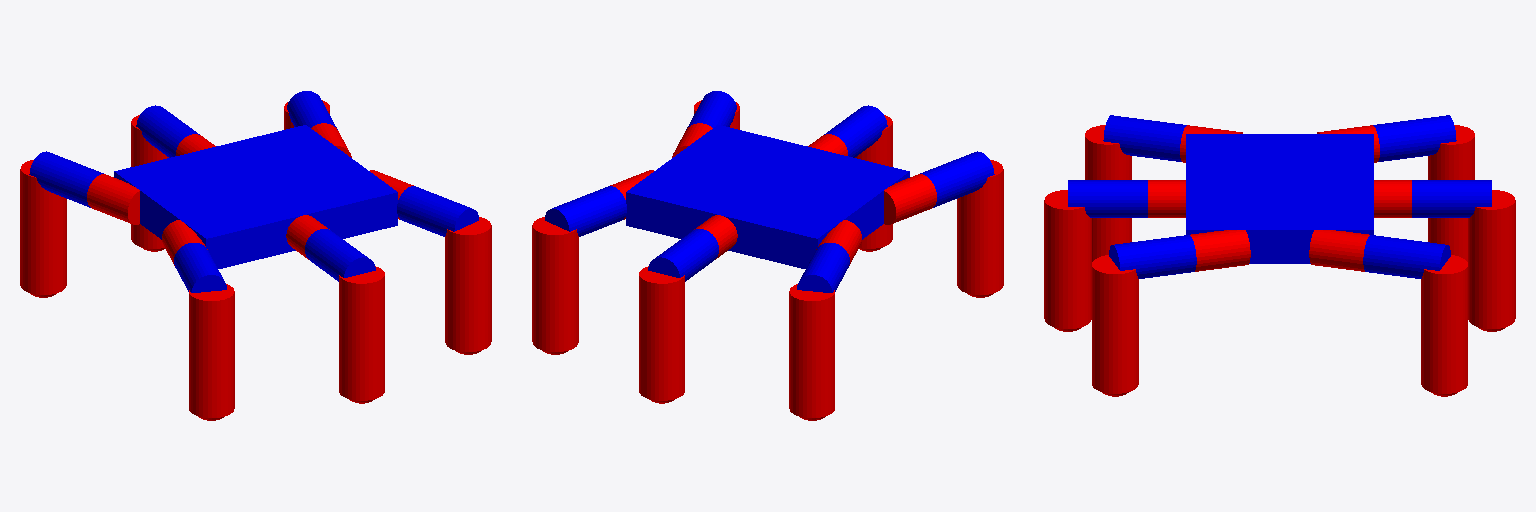
robot.urdf — pexod:
<?xml version="1.0" ?>
<!-- =================================================================================== -->
<!-- |    This document was autogenerated by xacro from urdf/pexod.xacro               | -->
<!-- |    EDITING THIS FILE BY HAND IS NOT RECOMMENDED                                 | -->
<!-- =================================================================================== -->
<robot name="pexod" xmlns:xacro="http://www.ros.org/wiki/xacro">
  <!-- <xacro:include filename="$(find pexod_description)/urdf/pexod_control.xacro" /> -->
  <!-- MATERIALS -->
  <material name="Blue">
    <color rgba="0 0 1 1"/>
  </material>
  <material name="Red">
    <color rgba="1 0 0 1"/>
  </material>
  <material name="Green">
    <color rgba="0 1 0 1"/>
  </material>
  <material name="Yellow">
    <color rgba="1 1 0 1"/>
  </material>
  <material name="LightGrey">
    <color rgba="0.6 0.6 0.6 1.0"/>
  </material>
  <!-- END OF MATERIALS -->
  <!-- XACRO MACROS FOR VISUALS AND COLLISIONS -->
  <!-- END OF XACRO MACROS -->
  <!-- TORSO -->
  <link name="base_link">
    <visual>
      <origin rpy="0 0 0" xyz="0 0 0"/>
      <geometry>
        <box size="0.24 0.2 0.04"/>
      </geometry>
      <material name="Blue"/>
    </visual>
    <collision>
      <origin rpy="0 0 0" xyz="0 0 0"/>
      <geometry>
        <box size="0.24 0.2 0.04"/>
      </geometry>
    </collision>
    <inertial>
      <!-- CENTER OF MASS -->
      <origin rpy="0 0 0" xyz="0 0 0"/>
      <mass value="1.031"/>
      <!-- box inertia: 1/12*m(y^2+z^2), ... -->
      <inertia ixx="0.00357413333333" ixy="0" ixz="0" iyy="0.00508626666667" iyz="0" izz="0.00838546666667"/>
    </inertial>
  </link>
  <!-- XACRO MACRO FOR LEGS LINKS/JOINTS -->
  <!-- END OF LEG LINKS/JOINTS -->
  <joint name="body_leg_2" type="revolute">
    <parent link="base_link"/>
    <child link="leg_2_1"/>
    <limit effort="30.0" lower="-1.57079632679" upper="1.57079632679" velocity="7.0"/>
    <origin rpy="0 0 -0.3" xyz="0.11 0.04 0"/>
    <!-- <xacro:if value="${index == 5 or index == 4 or index == 3}">
                <axis xyz="0 0 1"/>
            </xacro:if>
            <xacro:if value="${index == 2 or index == 1 or index == 0}"> -->
    <axis xyz="0 0 1"/>
    <!-- </xacro:if> -->
    <dynamics damping="0.0"/>
  </joint>
  <link name="leg_2_1">
    <visual>
      <origin rpy="1.57079632679 0 0" xyz="0.01 0.03 0"/>
      <geometry>
        <cylinder length="0.06" radius="0.02"/>
      </geometry>
      <material name="Red"/>
    </visual>
    <collision>
      <origin rpy="1.57079632679 0 0" xyz="0.01 0.03 0"/>
      <geometry>
        <box size="0.02 0.02 0.06"/>
      </geometry>
    </collision>
    <inertial>
      <!-- CENTER OF MASS -->
      <origin rpy="1.57079632679 0 0" xyz="0.01 0.03 0"/>
      <mass value="0.02"/>
      <!-- box inertia: 1/12*m(y^2+z^2), ... -->
      <inertia ixx="6.66666666667e-06" ixy="0" ixz="0" iyy="6.66666666667e-06" iyz="0" izz="1.33333333333e-06"/>
    </inertial>
  </link>
  <joint name="leg_2_1_2" type="revolute">
    <parent link="leg_2_1"/>
    <child link="leg_2_2"/>
    <limit effort="30.0" lower="-0.78539816339" upper="0.78539816339" velocity="7.0"/>
    <origin rpy="0 0 0" xyz="0 0.06 0"/>
    <axis xyz="1 0 0"/>
    <dynamics damping="0.0"/>
  </joint>
  <link name="leg_2_2">
    <visual>
      <origin rpy="1.57079632679 0 0" xyz="0.01 0.0425 0"/>
      <geometry>
        <cylinder length="0.085" radius="0.02"/>
      </geometry>
      <material name="Blue"/>
    </visual>
    <collision>
      <origin rpy="1.57079632679 0 0" xyz="0.01 0.0425 0"/>
      <geometry>
        <box size="0.02 0.02 0.085"/>
      </geometry>
    </collision>
    <inertial>
      <!-- CENTER OF MASS -->
      <origin rpy="1.57079632679 0 0" xyz="0.01 0.0425 0"/>
      <mass value="0.184"/>
      <!-- box inertia: 1/12*m(y^2+z^2), ... -->
      <inertia ixx="0.000116916666667" ixy="0" ixz="0" iyy="0.000116916666667" iyz="0" izz="1.22666666667e-05"/>
    </inertial>
  </link>
  <joint name="leg_2_2_3" type="fixed">
    <parent link="leg_2_2"/>
    <child link="leg_2_3"/>
    <!-- <limit effort="30.0" lower="-0.78539816339" upper="0.78539816339" velocity="7.0"/> -->
    <origin rpy="-1.57079632679 0 0" xyz="0 0.085 0"/>
    <!-- <axis xyz="-1 0 0"/>
    <dynamics damping="0.0"/> -->
  </joint>
  <link name="leg_2_3">
    <visual>
      <origin rpy="1.57079632679 0 0" xyz="0.0125 0.07 0"/>
      <geometry>
        <cylinder length="0.14" radius="0.025"/>
      </geometry>
      <material name="Red"/>
    </visual>
    <visual>
      <origin rpy="1.57079632679 0 0" xyz="0.0125 0.1275 0"/>
      <geometry>
        <sphere radius="0.025"/>
      </geometry>
      <material name="Red"/>
    </visual>
    <collision>
      <origin rpy="1.57079632679 0 0" xyz="0.0125 0.07 0"/>
      <geometry>
        <box size="0.025 0.025 0.14"/>
      </geometry>
    </collision>
    <collision>
      <origin rpy="1.57079632679 0 0" xyz="0.0125 0.1275 0"/>
      <geometry>
        <sphere radius="0.025"/>
      </geometry>
      <material name="Red"/>
    </collision>
    <inertial>
      <!-- CENTER OF MASS -->
      <origin rpy="1.57079632679 0 0" xyz="0.0125 0.07 0"/>
      <mass value="0.04"/>
      <!-- box inertia: 1/12*m(y^2+z^2), ... -->
      <inertia ixx="6.74166666667e-05" ixy="0" ixz="0" iyy="6.74166666667e-05" iyz="0" izz="4.16666666667e-06"/>
    </inertial>
  </link>
  <joint name="body_leg_3" type="revolute">
    <parent link="base_link"/>
    <child link="leg_3_1"/>
    <limit effort="30.0" lower="-1.57079632679" upper="1.57079632679" velocity="7.0"/>
    <origin rpy="0 0 0.3" xyz="0.11 -0.04 0"/>
    <!-- <xacro:if value="${index == 5 or index == 4 or index == 3}">
                <axis xyz="0 0 1"/>
            </xacro:if>
            <xacro:if value="${index == 2 or index == 1 or index == 0}"> -->
    <axis xyz="0 0 1"/>
    <!-- </xacro:if> -->
    <dynamics damping="0.0"/>
  </joint>
  <link name="leg_3_1">
    <visual>
      <origin rpy="1.57079632679 0 0" xyz="0.01 -0.03 0"/>
      <geometry>
        <cylinder length="0.06" radius="0.02"/>
      </geometry>
      <material name="Red"/>
    </visual>
    <collision>
      <origin rpy="1.57079632679 0 0" xyz="0.01 -0.03 0"/>
      <geometry>
        <box size="0.02 0.02 0.06"/>
      </geometry>
    </collision>
    <inertial>
      <!-- CENTER OF MASS -->
      <origin rpy="1.57079632679 0 0" xyz="0.01 -0.03 0"/>
      <mass value="0.02"/>
      <!-- box inertia: 1/12*m(y^2+z^2), ... -->
      <inertia ixx="6.66666666667e-06" ixy="0" ixz="0" iyy="6.66666666667e-06" iyz="0" izz="1.33333333333e-06"/>
    </inertial>
  </link>
  <joint name="leg_3_1_2" type="revolute">
    <parent link="leg_3_1"/>
    <child link="leg_3_2"/>
    <limit effort="30.0" lower="-0.78539816339" upper="0.78539816339" velocity="7.0"/>
    <origin rpy="0 0 0" xyz="0 -0.06 0"/>
    <axis xyz="-1 0 0"/>
    <dynamics damping="0.0"/>
  </joint>
  <link name="leg_3_2">
    <visual>
      <origin rpy="1.57079632679 0 0" xyz="0.01 -0.0425 0"/>
      <geometry>
        <cylinder length="0.085" radius="0.02"/>
      </geometry>
      <material name="Blue"/>
    </visual>
    <collision>
      <origin rpy="1.57079632679 0 0" xyz="0.01 -0.0425 0"/>
      <geometry>
        <box size="0.02 0.02 0.085"/>
      </geometry>
    </collision>
    <inertial>
      <!-- CENTER OF MASS -->
      <origin rpy="1.57079632679 0 0" xyz="0.01 -0.0425 0"/>
      <mass value="0.184"/>
      <!-- box inertia: 1/12*m(y^2+z^2), ... -->
      <inertia ixx="0.000116916666667" ixy="0" ixz="0" iyy="0.000116916666667" iyz="0" izz="1.22666666667e-05"/>
    </inertial>
  </link>
  <joint name="leg_3_2_3" type="fixed">
    <parent link="leg_3_2"/>
    <child link="leg_3_3"/>
    <!-- <limit effort="30.0" lower="-0.78539816339" upper="0.78539816339" velocity="7.0"/> -->
    <origin rpy="1.57079632679 0 0" xyz="0 -0.085 0"/>
    <!-- <axis xyz="1 0 0"/>
    <dynamics damping="0.0"/> -->
  </joint>
  <link name="leg_3_3">
    <visual>
      <origin rpy="1.57079632679 0 0" xyz="0.0125 -0.07 0"/>
      <geometry>
        <cylinder length="0.14" radius="0.025"/>
      </geometry>
      <material name="Red"/>
    </visual>
    <visual>
      <origin rpy="1.57079632679 0 0" xyz="0.0125 -0.1275 0"/>
      <geometry>
        <sphere radius="0.025"/>
      </geometry>
      <material name="Red"/>
    </visual>
    <collision>
      <origin rpy="1.57079632679 0 0" xyz="0.0125 -0.07 0"/>
      <geometry>
        <box size="0.025 0.025 0.14"/>
      </geometry>
    </collision>
    <collision>
      <origin rpy="1.57079632679 0 0" xyz="0.0125 -0.1275 0"/>
      <geometry>
        <sphere radius="0.025"/>
      </geometry>
      <material name="Red"/>
    </collision>
    <inertial>
      <!-- CENTER OF MASS -->
      <origin rpy="1.57079632679 0 0" xyz="0.0125 -0.07 0"/>
      <mass value="0.04"/>
      <!-- box inertia: 1/12*m(y^2+z^2), ... -->
      <inertia ixx="6.74166666667e-05" ixy="0" ixz="0" iyy="6.74166666667e-05" iyz="0" izz="4.16666666667e-06"/>
    </inertial>
  </link>
  <joint name="body_leg_0" type="revolute">
    <parent link="base_link"/>
    <child link="leg_0_1"/>
    <limit effort="30.0" lower="-1.57079632679" upper="1.57079632679" velocity="7.0"/>
    <origin rpy="0 0 0.3" xyz="-0.13 0.04 0"/>
    <!-- <xacro:if value="${index == 5 or index == 4 or index == 3}">
                <axis xyz="0 0 1"/>
            </xacro:if>
            <xacro:if value="${index == 2 or index == 1 or index == 0}"> -->
    <axis xyz="0 0 1"/>
    <!-- </xacro:if> -->
    <dynamics damping="0.0"/>
  </joint>
  <link name="leg_0_1">
    <visual>
      <origin rpy="1.57079632679 0 0" xyz="0.01 0.03 0"/>
      <geometry>
        <cylinder length="0.06" radius="0.02"/>
      </geometry>
      <material name="Red"/>
    </visual>
    <collision>
      <origin rpy="1.57079632679 0 0" xyz="0.01 0.03 0"/>
      <geometry>
        <box size="0.02 0.02 0.06"/>
      </geometry>
    </collision>
    <inertial>
      <!-- CENTER OF MASS -->
      <origin rpy="1.57079632679 0 0" xyz="0.01 0.03 0"/>
      <mass value="0.02"/>
      <!-- box inertia: 1/12*m(y^2+z^2), ... -->
      <inertia ixx="6.66666666667e-06" ixy="0" ixz="0" iyy="6.66666666667e-06" iyz="0" izz="1.33333333333e-06"/>
    </inertial>
  </link>
  <joint name="leg_0_1_2" type="revolute">
    <parent link="leg_0_1"/>
    <child link="leg_0_2"/>
    <limit effort="30.0" lower="-0.78539816339" upper="0.78539816339" velocity="7.0"/>
    <origin rpy="0 0 0" xyz="0 0.06 0"/>
    <axis xyz="1 0 0"/>
    <dynamics damping="0.0"/>
  </joint>
  <link name="leg_0_2">
    <visual>
      <origin rpy="1.57079632679 0 0" xyz="0.01 0.0425 0"/>
      <geometry>
        <cylinder length="0.085" radius="0.02"/>
      </geometry>
      <material name="Blue"/>
    </visual>
    <collision>
      <origin rpy="1.57079632679 0 0" xyz="0.01 0.0425 0"/>
      <geometry>
        <box size="0.02 0.02 0.085"/>
      </geometry>
    </collision>
    <inertial>
      <!-- CENTER OF MASS -->
      <origin rpy="1.57079632679 0 0" xyz="0.01 0.0425 0"/>
      <mass value="0.184"/>
      <!-- box inertia: 1/12*m(y^2+z^2), ... -->
      <inertia ixx="0.000116916666667" ixy="0" ixz="0" iyy="0.000116916666667" iyz="0" izz="1.22666666667e-05"/>
    </inertial>
  </link>
  <joint name="leg_0_2_3" type="fixed">
    <parent link="leg_0_2"/>
    <child link="leg_0_3"/>
    <!-- <limit effort="30.0" lower="-0.78539816339" upper="0.78539816339" velocity="7.0"/> -->
    <origin rpy="-1.57079632679 0 0" xyz="0 0.085 0"/>
    <!-- <axis xyz="-1 0 0"/>
    <dynamics damping="0.0"/> -->
  </joint>
  <link name="leg_0_3">
    <visual>
      <origin rpy="1.57079632679 0 0" xyz="0.0125 0.07 0"/>
      <geometry>
        <cylinder length="0.14" radius="0.025"/>
      </geometry>
      <material name="Red"/>
    </visual>
    <visual>
      <origin rpy="1.57079632679 0 0" xyz="0.0125 0.1275 0"/>
      <geometry>
        <sphere radius="0.025"/>
      </geometry>
      <material name="Red"/>
    </visual>
    <collision>
      <origin rpy="1.57079632679 0 0" xyz="0.0125 0.07 0"/>
      <geometry>
        <box size="0.025 0.025 0.14"/>
      </geometry>
    </collision>
    <collision>
      <origin rpy="1.57079632679 0 0" xyz="0.0125 0.1275 0"/>
      <geometry>
        <sphere radius="0.025"/>
      </geometry>
      <material name="Red"/>
    </collision>
    <inertial>
      <!-- CENTER OF MASS -->
      <origin rpy="1.57079632679 0 0" xyz="0.0125 0.07 0"/>
      <mass value="0.04"/>
      <!-- box inertia: 1/12*m(y^2+z^2), ... -->
      <inertia ixx="6.74166666667e-05" ixy="0" ixz="0" iyy="6.74166666667e-05" iyz="0" izz="4.16666666667e-06"/>
    </inertial>
  </link>
  <joint name="body_leg_5" type="revolute">
    <parent link="base_link"/>
    <child link="leg_5_1"/>
    <limit effort="30.0" lower="-1.57079632679" upper="1.57079632679" velocity="7.0"/>
    <origin rpy="0 0 -0.3" xyz="-0.13 -0.04 0"/>
    <!-- <xacro:if value="${index == 5 or index == 4 or index == 3}">
                <axis xyz="0 0 1"/>
            </xacro:if>
            <xacro:if value="${index == 2 or index == 1 or index == 0}"> -->
    <axis xyz="0 0 1"/>
    <!-- </xacro:if> -->
    <dynamics damping="0.0"/>
  </joint>
  <link name="leg_5_1">
    <visual>
      <origin rpy="1.57079632679 0 0" xyz="0.01 -0.03 0"/>
      <geometry>
        <cylinder length="0.06" radius="0.02"/>
      </geometry>
      <material name="Red"/>
    </visual>
    <collision>
      <origin rpy="1.57079632679 0 0" xyz="0.01 -0.03 0"/>
      <geometry>
        <box size="0.02 0.02 0.06"/>
      </geometry>
    </collision>
    <inertial>
      <!-- CENTER OF MASS -->
      <origin rpy="1.57079632679 0 0" xyz="0.01 -0.03 0"/>
      <mass value="0.02"/>
      <!-- box inertia: 1/12*m(y^2+z^2), ... -->
      <inertia ixx="6.66666666667e-06" ixy="0" ixz="0" iyy="6.66666666667e-06" iyz="0" izz="1.33333333333e-06"/>
    </inertial>
  </link>
  <joint name="leg_5_1_2" type="revolute">
    <parent link="leg_5_1"/>
    <child link="leg_5_2"/>
    <limit effort="30.0" lower="-0.78539816339" upper="0.78539816339" velocity="7.0"/>
    <origin rpy="0 0 0" xyz="0 -0.06 0"/>
    <axis xyz="-1 0 0"/>
    <dynamics damping="0.0"/>
  </joint>
  <link name="leg_5_2">
    <visual>
      <origin rpy="1.57079632679 0 0" xyz="0.01 -0.0425 0"/>
      <geometry>
        <cylinder length="0.085" radius="0.02"/>
      </geometry>
      <material name="Blue"/>
    </visual>
    <collision>
      <origin rpy="1.57079632679 0 0" xyz="0.01 -0.0425 0"/>
      <geometry>
        <box size="0.02 0.02 0.085"/>
      </geometry>
    </collision>
    <inertial>
      <!-- CENTER OF MASS -->
      <origin rpy="1.57079632679 0 0" xyz="0.01 -0.0425 0"/>
      <mass value="0.184"/>
      <!-- box inertia: 1/12*m(y^2+z^2), ... -->
      <inertia ixx="0.000116916666667" ixy="0" ixz="0" iyy="0.000116916666667" iyz="0" izz="1.22666666667e-05"/>
    </inertial>
  </link>
  <joint name="leg_5_2_3" type="fixed">
    <parent link="leg_5_2"/>
    <child link="leg_5_3"/>
    <!-- <limit effort="30.0" lower="-0.78539816339" upper="0.78539816339" velocity="7.0"/> -->
    <origin rpy="1.57079632679 0 0" xyz="0 -0.085 0"/>
    <!-- <axis xyz="1 0 0"/>
    <dynamics damping="0.0"/> -->
  </joint>
  <link name="leg_5_3">
    <visual>
      <origin rpy="1.57079632679 0 0" xyz="0.0125 -0.07 0"/>
      <geometry>
        <cylinder length="0.14" radius="0.025"/>
      </geometry>
      <material name="Red"/>
    </visual>
    <visual>
      <origin rpy="1.57079632679 0 0" xyz="0.0125 -0.1275 0"/>
      <geometry>
        <sphere radius="0.025"/>
      </geometry>
      <material name="Red"/>
    </visual>
    <collision>
      <origin rpy="1.57079632679 0 0" xyz="0.0125 -0.07 0"/>
      <geometry>
        <box size="0.025 0.025 0.14"/>
      </geometry>
    </collision>
    <collision>
      <origin rpy="1.57079632679 0 0" xyz="0.0125 -0.1275 0"/>
      <geometry>
        <sphere radius="0.025"/>
      </geometry>
      <material name="Red"/>
    </collision>
    <inertial>
      <!-- CENTER OF MASS -->
      <origin rpy="1.57079632679 0 0" xyz="0.0125 -0.07 0"/>
      <mass value="0.04"/>
      <!-- box inertia: 1/12*m(y^2+z^2), ... -->
      <inertia ixx="6.74166666667e-05" ixy="0" ixz="0" iyy="6.74166666667e-05" iyz="0" izz="4.16666666667e-06"/>
    </inertial>
  </link>
  <joint name="body_leg_1" type="revolute">
    <parent link="base_link"/>
    <child link="leg_1_1"/>
    <limit effort="30.0" lower="-1.57079632679" upper="1.57079632679" velocity="7.0"/>
    <origin rpy="0 0 0" xyz="-0.01 0.08 0"/>
    <!-- <xacro:if value="${index == 5 or index == 4 or index == 3}">
                <axis xyz="0 0 1"/>
            </xacro:if>
            <xacro:if value="${index == 2 or index == 1 or index == 0}"> -->
    <axis xyz="0 0 1"/>
    <!-- </xacro:if> -->
    <dynamics damping="0.0"/>
  </joint>
  <link name="leg_1_1">
    <visual>
      <origin rpy="1.57079632679 0 0" xyz="0.01 0.03 0"/>
      <geometry>
        <cylinder length="0.06" radius="0.02"/>
      </geometry>
      <material name="Red"/>
    </visual>
    <collision>
      <origin rpy="1.57079632679 0 0" xyz="0.01 0.03 0"/>
      <geometry>
        <box size="0.02 0.02 0.06"/>
      </geometry>
    </collision>
    <inertial>
      <!-- CENTER OF MASS -->
      <origin rpy="1.57079632679 0 0" xyz="0.01 0.03 0"/>
      <mass value="0.02"/>
      <!-- box inertia: 1/12*m(y^2+z^2), ... -->
      <inertia ixx="6.66666666667e-06" ixy="0" ixz="0" iyy="6.66666666667e-06" iyz="0" izz="1.33333333333e-06"/>
    </inertial>
  </link>
  <joint name="leg_1_1_2" type="revolute">
    <parent link="leg_1_1"/>
    <child link="leg_1_2"/>
    <limit effort="30.0" lower="-0.78539816339" upper="0.78539816339" velocity="7.0"/>
    <origin rpy="0 0 0" xyz="0 0.06 0"/>
    <axis xyz="1 0 0"/>
    <dynamics damping="0.0"/>
  </joint>
  <link name="leg_1_2">
    <visual>
      <origin rpy="1.57079632679 0 0" xyz="0.01 0.0425 0"/>
      <geometry>
        <cylinder length="0.085" radius="0.02"/>
      </geometry>
      <material name="Blue"/>
    </visual>
    <collision>
      <origin rpy="1.57079632679 0 0" xyz="0.01 0.0425 0"/>
      <geometry>
        <box size="0.02 0.02 0.085"/>
      </geometry>
    </collision>
    <inertial>
      <!-- CENTER OF MASS -->
      <origin rpy="1.57079632679 0 0" xyz="0.01 0.0425 0"/>
      <mass value="0.184"/>
      <!-- box inertia: 1/12*m(y^2+z^2), ... -->
      <inertia ixx="0.000116916666667" ixy="0" ixz="0" iyy="0.000116916666667" iyz="0" izz="1.22666666667e-05"/>
    </inertial>
  </link>
  <joint name="leg_1_2_3" type="fixed">
    <parent link="leg_1_2"/>
    <child link="leg_1_3"/>
    <!-- <limit effort="30.0" lower="-0.78539816339" upper="0.78539816339" velocity="7.0"/> -->
    <origin rpy="-1.57079632679 0 0" xyz="0 0.085 0"/>
    <!-- <axis xyz="-1 0 0"/>
    <dynamics damping="0.0"/> -->
  </joint>
  <link name="leg_1_3">
    <visual>
      <origin rpy="1.57079632679 0 0" xyz="0.0125 0.07 0"/>
      <geometry>
        <cylinder length="0.14" radius="0.025"/>
      </geometry>
      <material name="Red"/>
    </visual>
    <visual>
      <origin rpy="1.57079632679 0 0" xyz="0.0125 0.1275 0"/>
      <geometry>
        <sphere radius="0.025"/>
      </geometry>
      <material name="Red"/>
    </visual>
    <collision>
      <origin rpy="1.57079632679 0 0" xyz="0.0125 0.07 0"/>
      <geometry>
        <box size="0.025 0.025 0.14"/>
      </geometry>
    </collision>
    <collision>
      <origin rpy="1.57079632679 0 0" xyz="0.0125 0.1275 0"/>
      <geometry>
        <sphere radius="0.025"/>
      </geometry>
      <material name="Red"/>
    </collision>
    <inertial>
      <!-- CENTER OF MASS -->
      <origin rpy="1.57079632679 0 0" xyz="0.0125 0.07 0"/>
      <mass value="0.04"/>
      <!-- box inertia: 1/12*m(y^2+z^2), ... -->
      <inertia ixx="6.74166666667e-05" ixy="0" ixz="0" iyy="6.74166666667e-05" iyz="0" izz="4.16666666667e-06"/>
    </inertial>
  </link>
  <joint name="body_leg_4" type="revolute">
    <parent link="base_link"/>
    <child link="leg_4_1"/>
    <limit effort="30.0" lower="-1.57079632679" upper="1.57079632679" velocity="7.0"/>
    <origin rpy="0 0 0" xyz="-0.01 -0.08 0"/>
    <!-- <xacro:if value="${index == 5 or index == 4 or index == 3}">
                <axis xyz="0 0 1"/>
            </xacro:if>
            <xacro:if value="${index == 2 or index == 1 or index == 0}"> -->
    <axis xyz="0 0 1"/>
    <!-- </xacro:if> -->
    <dynamics damping="0.0"/>
  </joint>
  <link name="leg_4_1">
    <visual>
      <origin rpy="1.57079632679 0 0" xyz="0.01 -0.03 0"/>
      <geometry>
        <cylinder length="0.06" radius="0.02"/>
      </geometry>
      <material name="Red"/>
    </visual>
    <collision>
      <origin rpy="1.57079632679 0 0" xyz="0.01 -0.03 0"/>
      <geometry>
        <box size="0.02 0.02 0.06"/>
      </geometry>
    </collision>
    <inertial>
      <!-- CENTER OF MASS -->
      <origin rpy="1.57079632679 0 0" xyz="0.01 -0.03 0"/>
      <mass value="0.02"/>
      <!-- box inertia: 1/12*m(y^2+z^2), ... -->
      <inertia ixx="6.66666666667e-06" ixy="0" ixz="0" iyy="6.66666666667e-06" iyz="0" izz="1.33333333333e-06"/>
    </inertial>
  </link>
  <joint name="leg_4_1_2" type="revolute">
    <parent link="leg_4_1"/>
    <child link="leg_4_2"/>
    <limit effort="30.0" lower="-0.78539816339" upper="0.78539816339" velocity="7.0"/>
    <origin rpy="0 0 0" xyz="0 -0.06 0"/>
    <axis xyz="-1 0 0"/>
    <dynamics damping="0.0"/>
  </joint>
  <link name="leg_4_2">
    <visual>
      <origin rpy="1.57079632679 0 0" xyz="0.01 -0.0425 0"/>
      <geometry>
        <cylinder length="0.085" radius="0.02"/>
      </geometry>
      <material name="Blue"/>
    </visual>
    <collision>
      <origin rpy="1.57079632679 0 0" xyz="0.01 -0.0425 0"/>
      <geometry>
        <box size="0.02 0.02 0.085"/>
      </geometry>
    </collision>
    <inertial>
      <!-- CENTER OF MASS -->
      <origin rpy="1.57079632679 0 0" xyz="0.01 -0.0425 0"/>
      <mass value="0.184"/>
      <!-- box inertia: 1/12*m(y^2+z^2), ... -->
      <inertia ixx="0.000116916666667" ixy="0" ixz="0" iyy="0.000116916666667" iyz="0" izz="1.22666666667e-05"/>
    </inertial>
  </link>
  <joint name="leg_4_2_3" type="fixed">
    <parent link="leg_4_2"/>
    <child link="leg_4_3"/>
    <!-- <limit effort="30.0" lower="-0.78539816339" upper="0.78539816339" velocity="7.0"/> -->
    <origin rpy="1.57079632679 0 0" xyz="0 -0.085 0"/>
    <!-- <axis xyz="1 0 0"/>
    <dynamics damping="0.0"/> -->
  </joint>
  <link name="leg_4_3">
    <visual>
      <origin rpy="1.57079632679 0 0" xyz="0.0125 -0.07 0"/>
      <geometry>
        <cylinder length="0.14" radius="0.025"/>
      </geometry>
      <material name="Red"/>
    </visual>
    <visual>
      <origin rpy="1.57079632679 0 0" xyz="0.0125 -0.1275 0"/>
      <geometry>
        <sphere radius="0.025"/>
      </geometry>
      <material name="Red"/>
    </visual>
    <collision>
      <origin rpy="1.57079632679 0 0" xyz="0.0125 -0.07 0"/>
      <geometry>
        <box size="0.025 0.025 0.14"/>
      </geometry>
    </collision>
    <collision>
      <origin rpy="1.57079632679 0 0" xyz="0.0125 -0.1275 0"/>
      <geometry>
        <sphere radius="0.025"/>
      </geometry>
      <material name="Red"/>
    </collision>
    <inertial>
      <!-- CENTER OF MASS -->
      <origin rpy="1.57079632679 0 0" xyz="0.0125 -0.07 0"/>
      <mass value="0.04"/>
      <!-- box inertia: 1/12*m(y^2+z^2), ... -->
      <inertia ixx="6.74166666667e-05" ixy="0" ixz="0" iyy="6.74166666667e-05" iyz="0" izz="4.16666666667e-06"/>
    </inertial>
  </link>
  <!-- END OF LEG LINKS/JOINTS -->
</robot>

--- What the picture shows (computed from the rendered views, not written in the file) ---
3 views of the same robot in one strip: view 1: azimuth 30°, elevation 25°; view 2: azimuth 150°, elevation 25°; view 3: azimuth 270°, elevation 25° (orthographic).
Robot: pexod — 19 links, 18 joints (12 revolute, 6 fixed); root link base_link; default pose: every joint at zero.
Visible links, largest first — view 1: base_link, leg_3_3, leg_5_3, leg_4_3, leg_0_3, leg_3_2, leg_0_2, leg_4_2, leg_0_1, leg_5_2, leg_1_2, leg_1_3 (+3 smaller); view 2: base_link, leg_2_3, leg_0_3, leg_1_3, leg_5_3, leg_2_2, leg_5_2, leg_1_2, leg_5_1, leg_0_2, leg_4_2, leg_4_3 (+3 smaller); view 3: base_link, leg_1_3, leg_4_3, leg_2_3, leg_3_3, leg_0_3, leg_5_3, leg_2_2, leg_3_2, leg_1_2, leg_4_2, leg_0_2 (+5 smaller).
Boxes of the visible links, <box> form: base_link: <box>114,125,397,268</box>; leg_3_3: <box>445,217,491,354</box>; leg_5_3: <box>189,284,234,420</box>; leg_4_3: <box>339,266,384,403</box>; leg_0_3: <box>20,160,66,297</box>; leg_3_2: <box>397,186,478,236</box>; leg_0_2: <box>29,151,103,207</box>; leg_4_2: <box>305,229,375,281</box>; leg_0_1: <box>87,174,139,224</box>; leg_5_2: <box>174,243,226,292</box>; leg_1_2: <box>136,105,199,157</box>; leg_1_3: <box>131,115,168,251</box>; base_link: <box>626,125,909,268</box>; leg_2_3: <box>532,217,578,354</box>; leg_0_3: <box>789,284,834,420</box>; leg_1_3: <box>639,266,684,403</box>; leg_5_3: <box>957,160,1003,297</box>; leg_2_2: <box>545,186,626,236</box>; leg_5_2: <box>920,151,994,207</box>; leg_1_2: <box>648,229,718,281</box>; leg_5_1: <box>884,174,936,224</box>; leg_0_2: <box>797,243,849,292</box>; leg_4_2: <box>824,105,887,157</box>; leg_4_3: <box>855,115,892,251</box>; base_link: <box>1186,134,1373,263</box>; leg_1_3: <box>1468,190,1515,331</box>; leg_4_3: <box>1044,190,1091,331</box>; leg_2_3: <box>1421,255,1467,396</box>; leg_3_3: <box>1092,255,1138,396</box>; leg_0_3: <box>1428,125,1474,261</box>; leg_5_3: <box>1085,125,1131,261</box>; leg_2_2: <box>1363,235,1450,278</box>; leg_3_2: <box>1109,235,1196,278</box>; leg_1_2: <box>1412,180,1491,217</box>; leg_4_2: <box>1068,180,1147,217</box>; leg_0_2: <box>1373,115,1456,161</box>.
Size in the robot's own frame: 0.3755 by 0.5 by 0.1725 metres.
Geometry: primitives only (box / cylinder / sphere), no mesh files.
